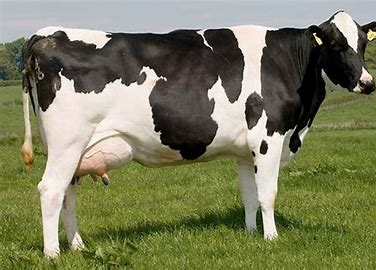waka: (14, 3, 376, 264)
